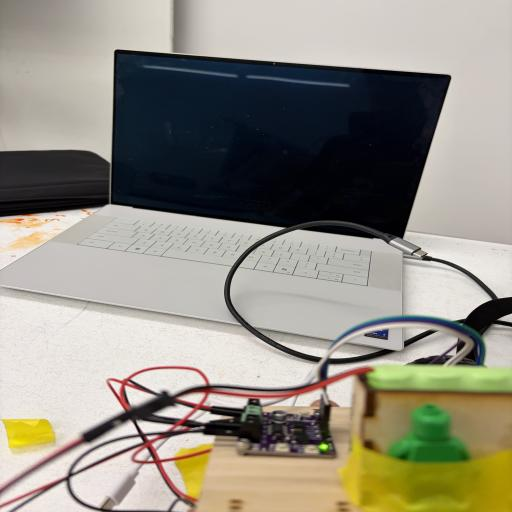Green-Lego: (388, 404, 471, 463)
